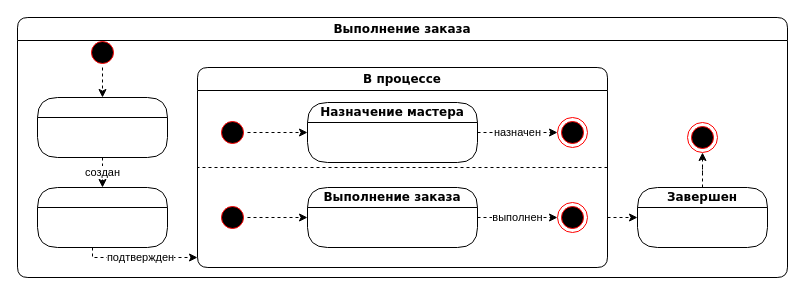
This 805x295 diagram has some shape labels left out. Each missing label, with the centre of its shape:
Заказ: [102,127]
Новый: [102,217]
